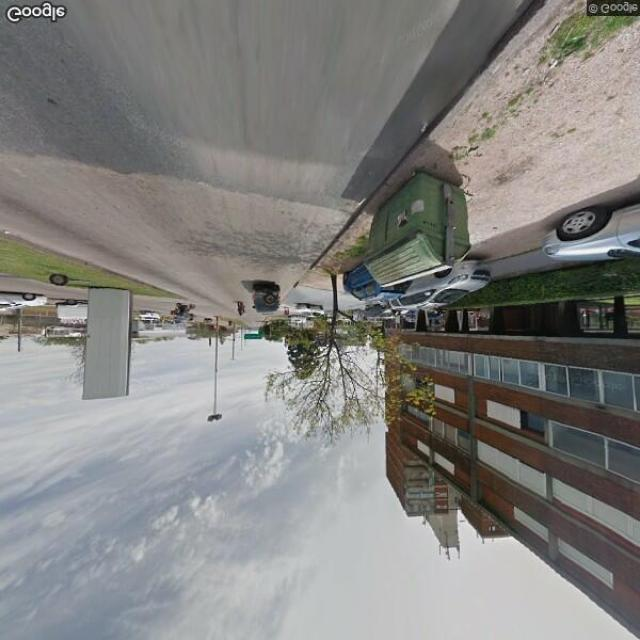garbage container: (352, 162, 479, 292)
